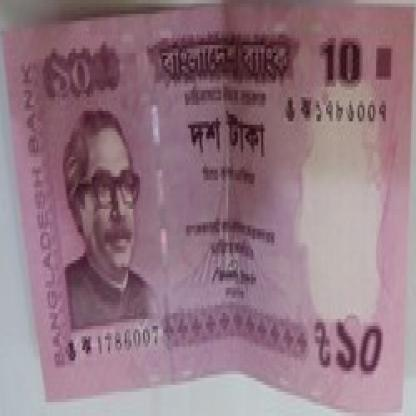Ten Taka: (335, 309, 388, 388), (36, 49, 110, 104), (323, 7, 363, 97)
